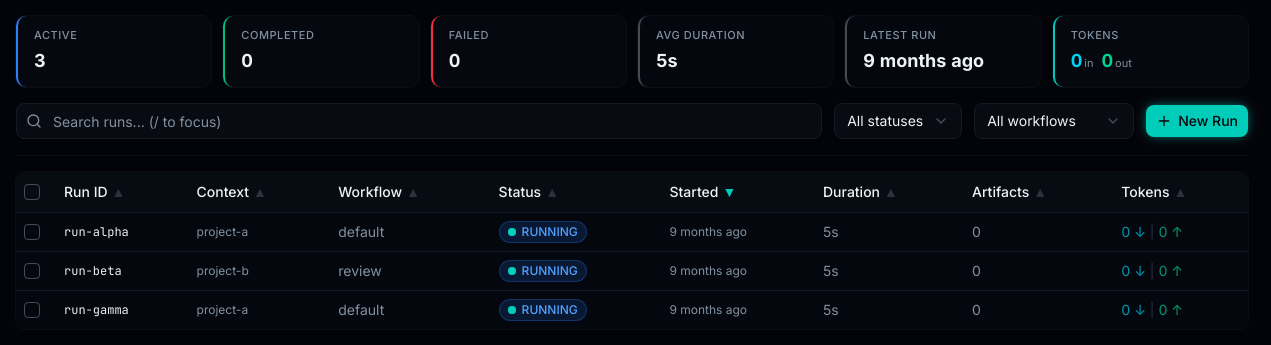
Test case: RunListPage - search filter › filters runs by runId when the user types in the search box
Expected: the text "run-alpha" is shown, [56,212,188,251]
Expected: the text "run-beta" is shown, [56,251,188,290]
Type "beta" into the field with placeholder "Search runs... (/ to focus)".
click(419, 121); type("beta")  # box [16,103,822,139]
Wait 350 ms
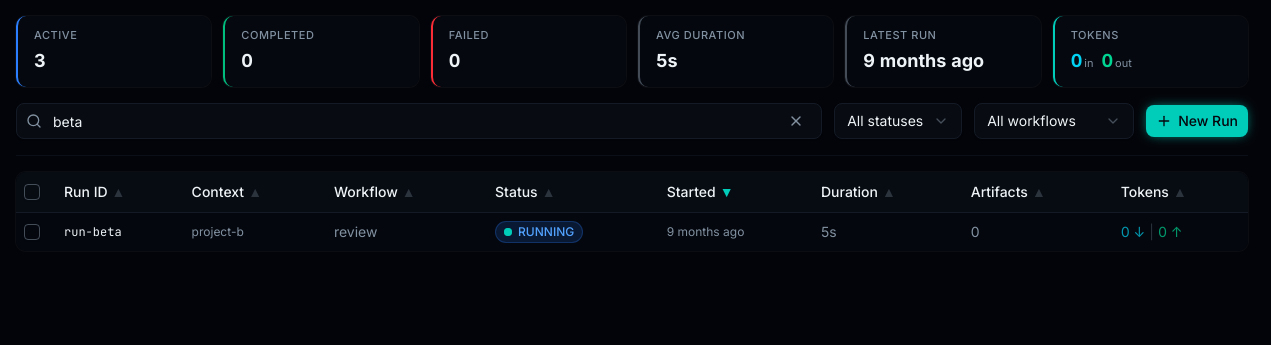
Expected: the text "run-beta" is shown, [56,212,184,251]
Now the link "run-alpha" is gone
Now the link "run-gamma" is gone
